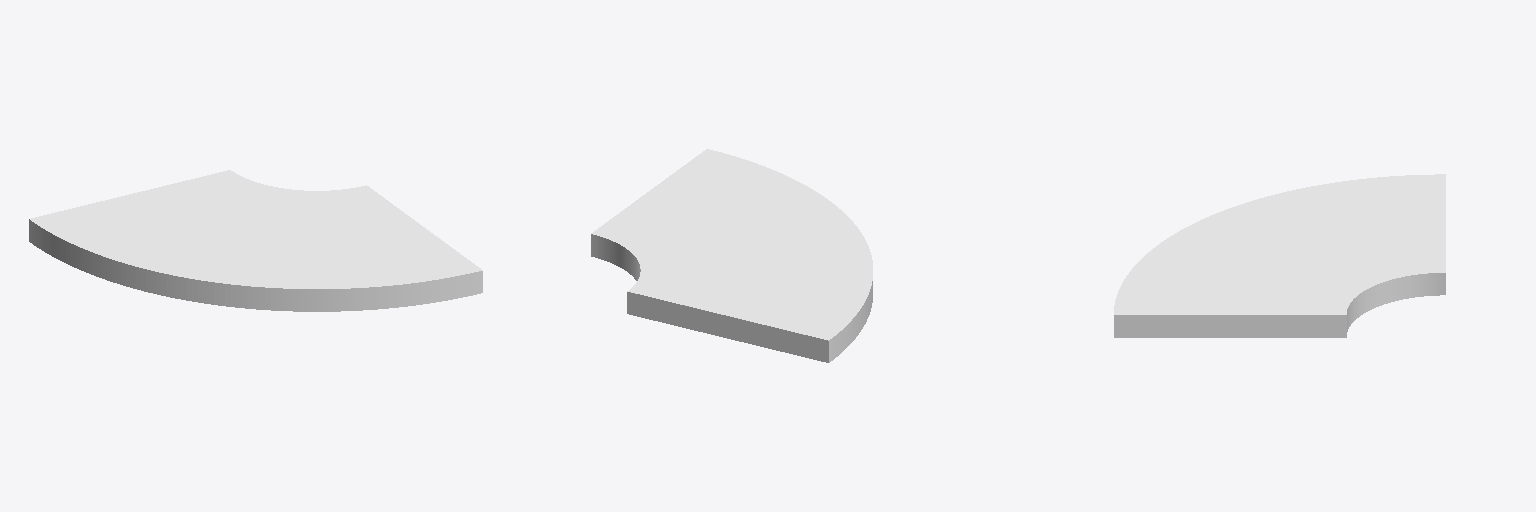
File: 90degrees.obj
The picture shows the model from 3 angles: view 1: azimuth 30°, elevation 25°; view 2: azimuth 150°, elevation 25°; view 3: azimuth 270°, elevation 25°; orthographic projection.
Parts seen in each view (by area): view 1: 90degrees; view 2: 90degrees; view 3: 90degrees.
Boxes of the visible parts, box(x1,y1,x2,y2) form: 90degrees: box(29, 170, 482, 311); 90degrees: box(591, 149, 872, 362); 90degrees: box(1114, 174, 1445, 337).
Size of the model in its own units: 1 by 0.075 by 1.